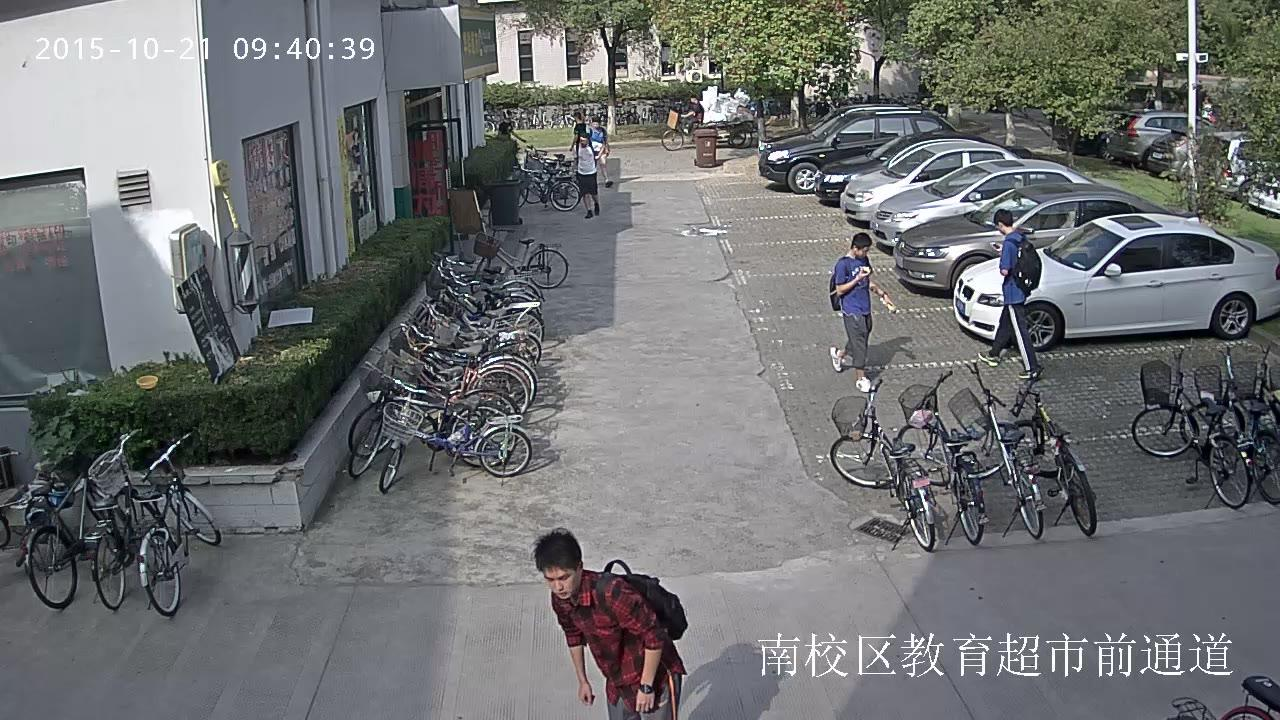person: (535, 529, 688, 720), (976, 208, 1040, 378), (829, 231, 873, 391), (661, 91, 709, 151), (573, 132, 599, 218), (586, 117, 613, 186), (497, 109, 526, 156), (678, 95, 704, 143), (569, 111, 586, 163)
